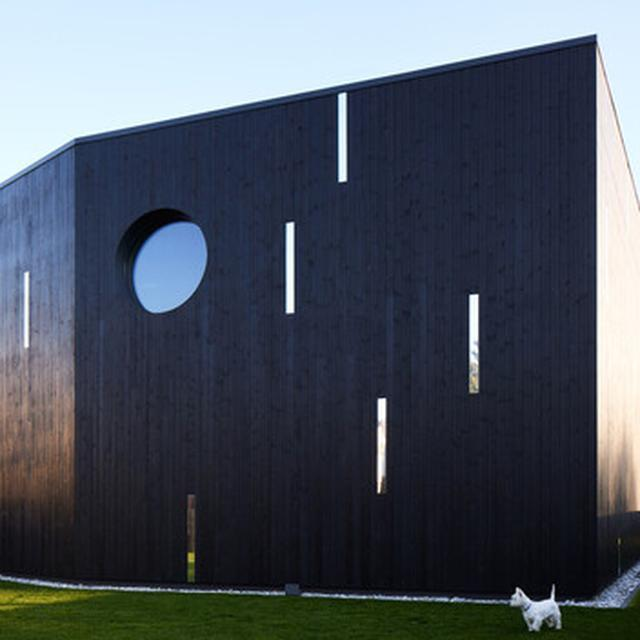building: (9, 32, 640, 601)
